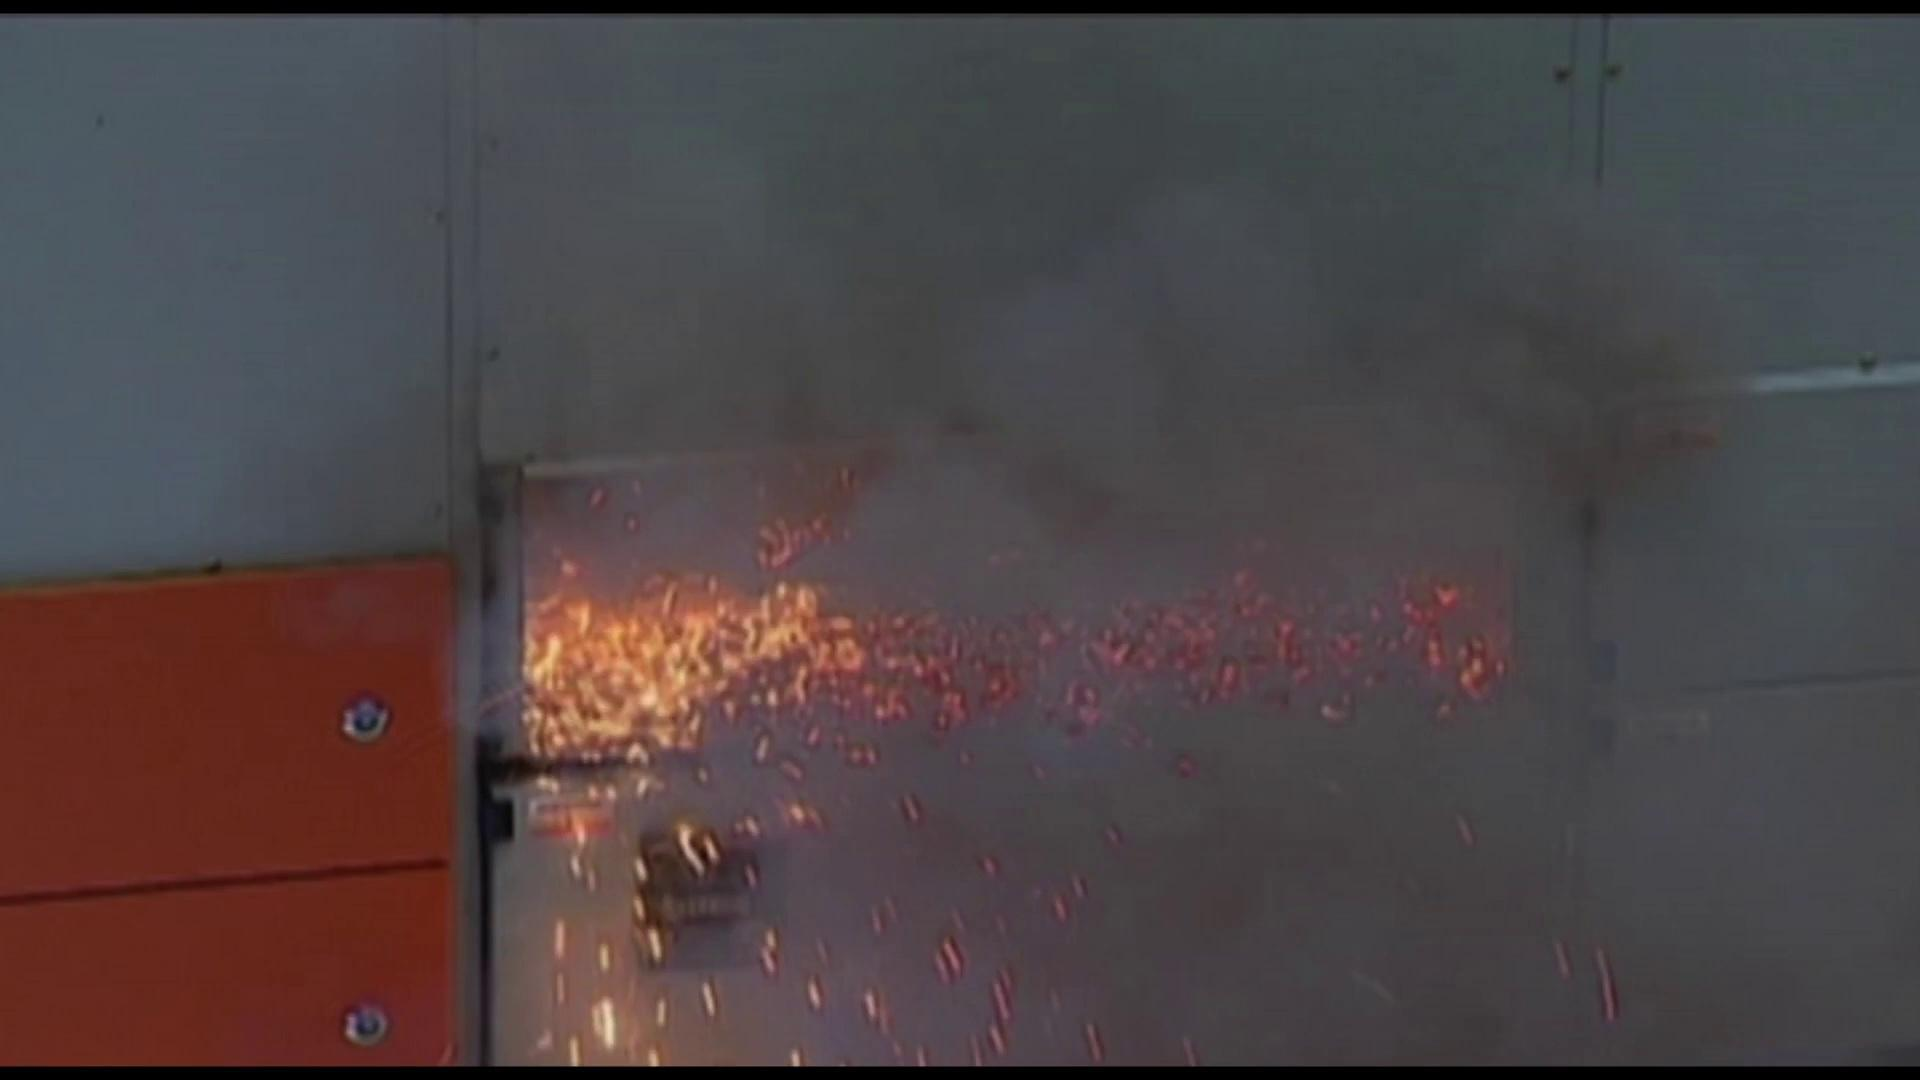fire: (425, 282, 1121, 963)
